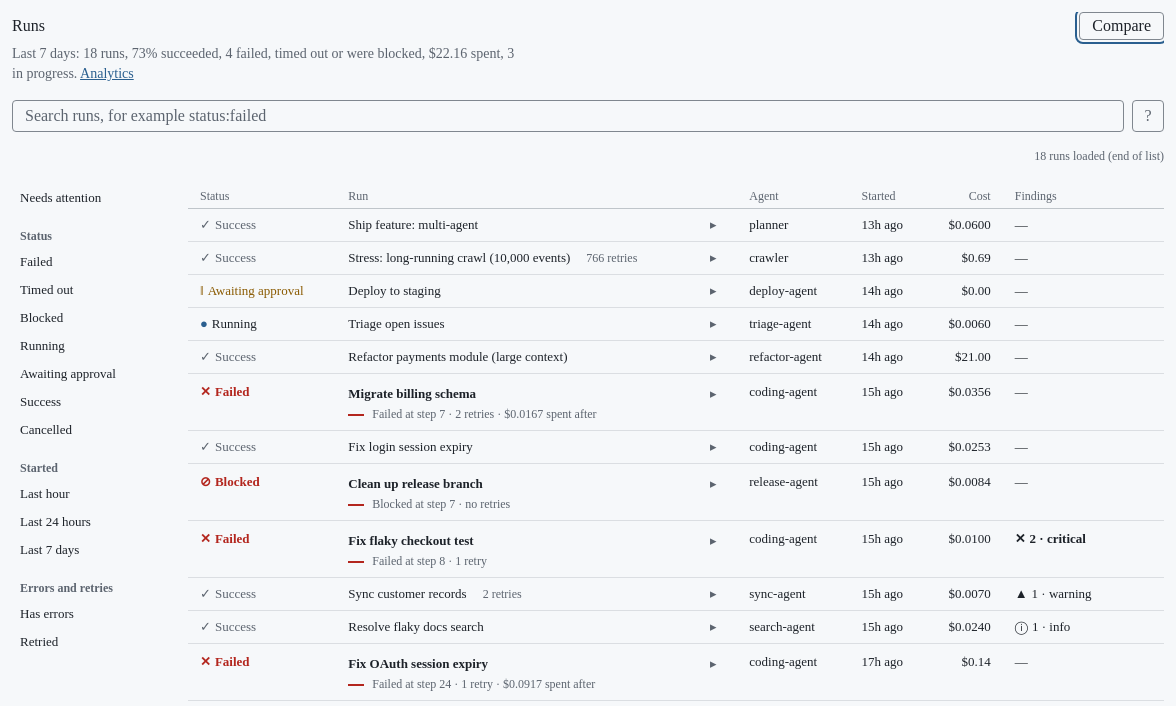
Test case: runs list rows › shows the tick boxes only while comparing and drops the picks when it stops
Press Enter
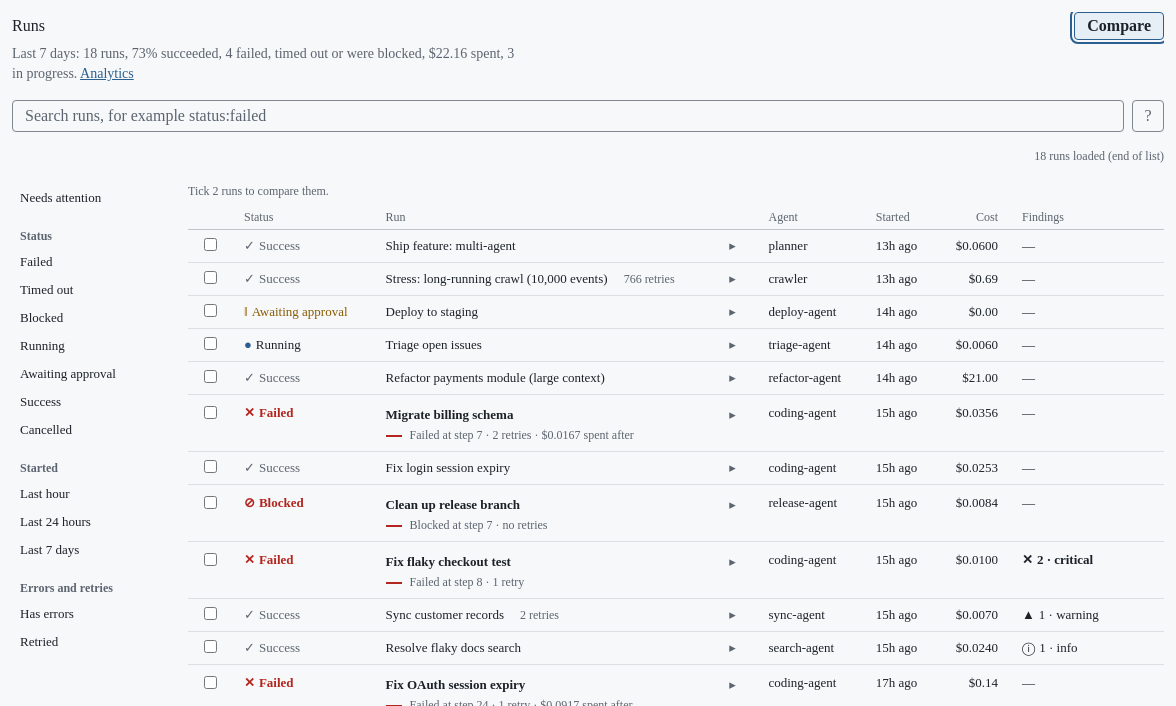
Expected: the number of checkboxes named "Compare " is 18
Click the checkbox named "Compare ". click: (210, 244)
box: 204,238 -> 217,251
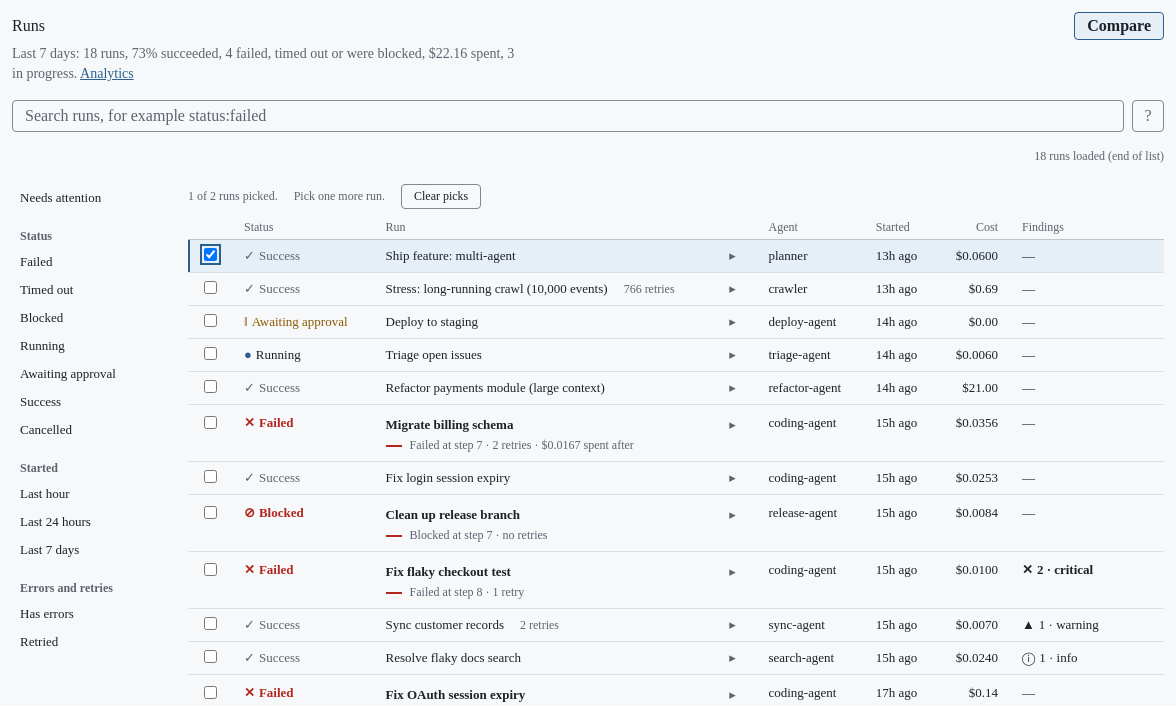
Expected: the element with test id "compare-bar" shows "1 of 2 runs picked.", 188,189 -> 278,203
Click the button "Compare". click: (1119, 26)
box: 1074,12 -> 1164,40
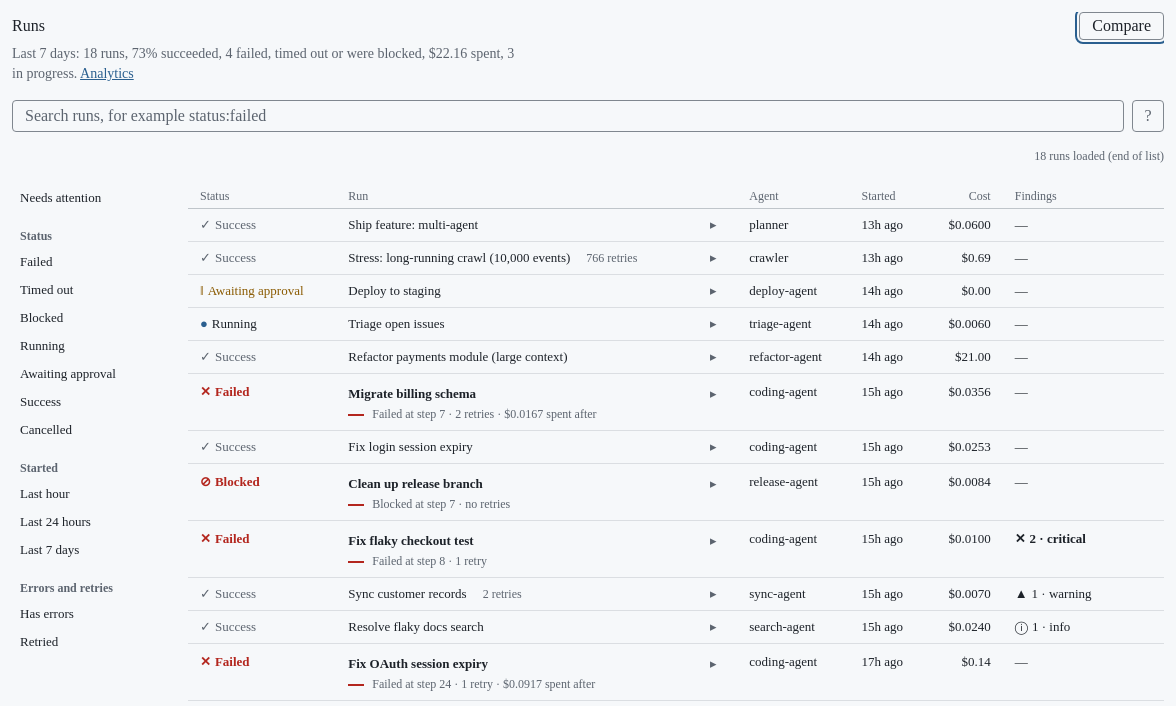
Expected: the element with test id "compare-bar" is gone
Click the button "Compare". click: (1122, 26)
box: 1079,12 -> 1164,40
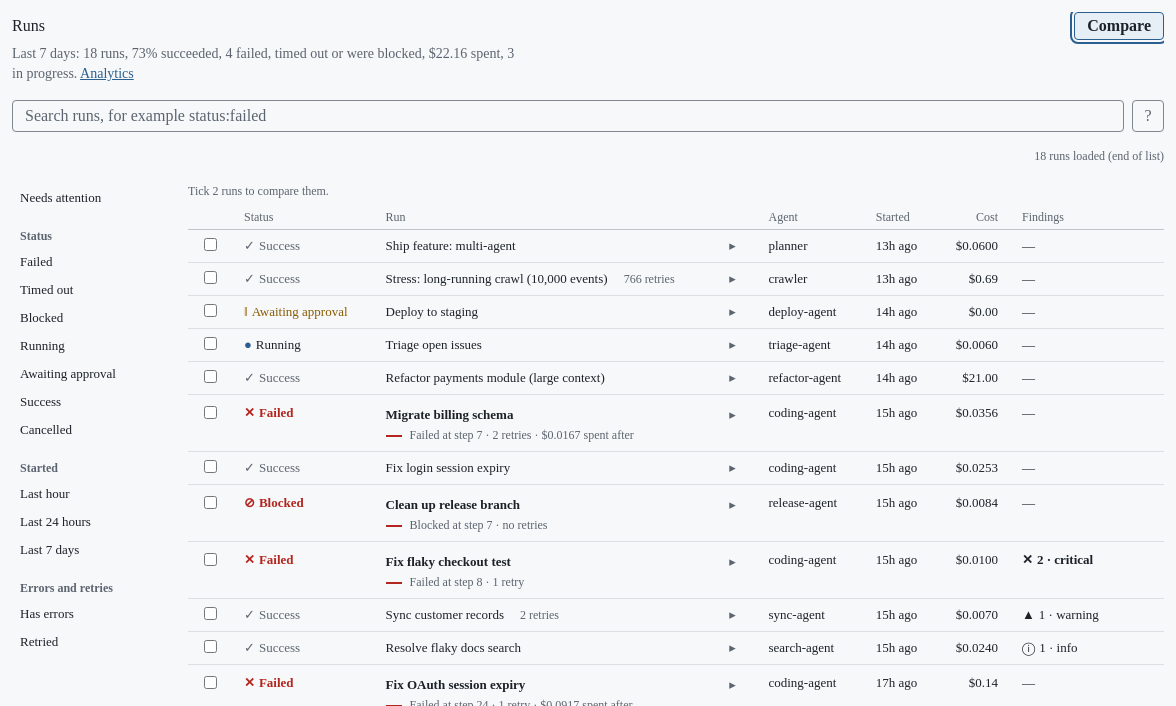
Expected: the element with test id "compare-bar" reads "Tick 2 runs to compare them.", 188,184 -> 329,198
